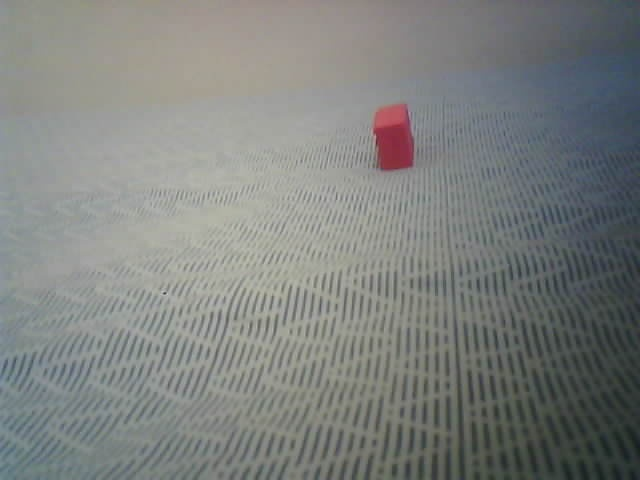lego: (371, 102, 415, 172)
